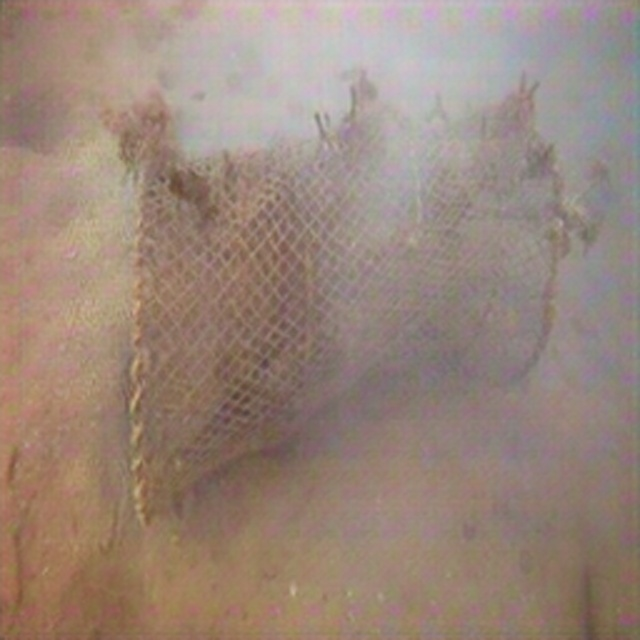mine: (128, 70, 562, 529)
